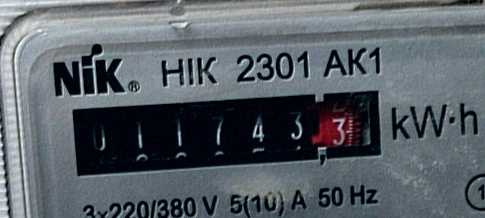0: (88, 118, 110, 155)
1: (171, 113, 188, 148), (134, 116, 146, 150)
3: (285, 107, 306, 143), (330, 115, 350, 150)
4: (248, 110, 267, 145)
7: (209, 112, 229, 147)
screen: (57, 73, 398, 192)
